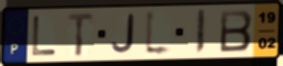B: (218, 9, 254, 54)
I: (194, 8, 208, 56)
J: (110, 13, 136, 55)
L: (143, 8, 175, 59), (30, 14, 59, 57)
T: (66, 12, 95, 58)
